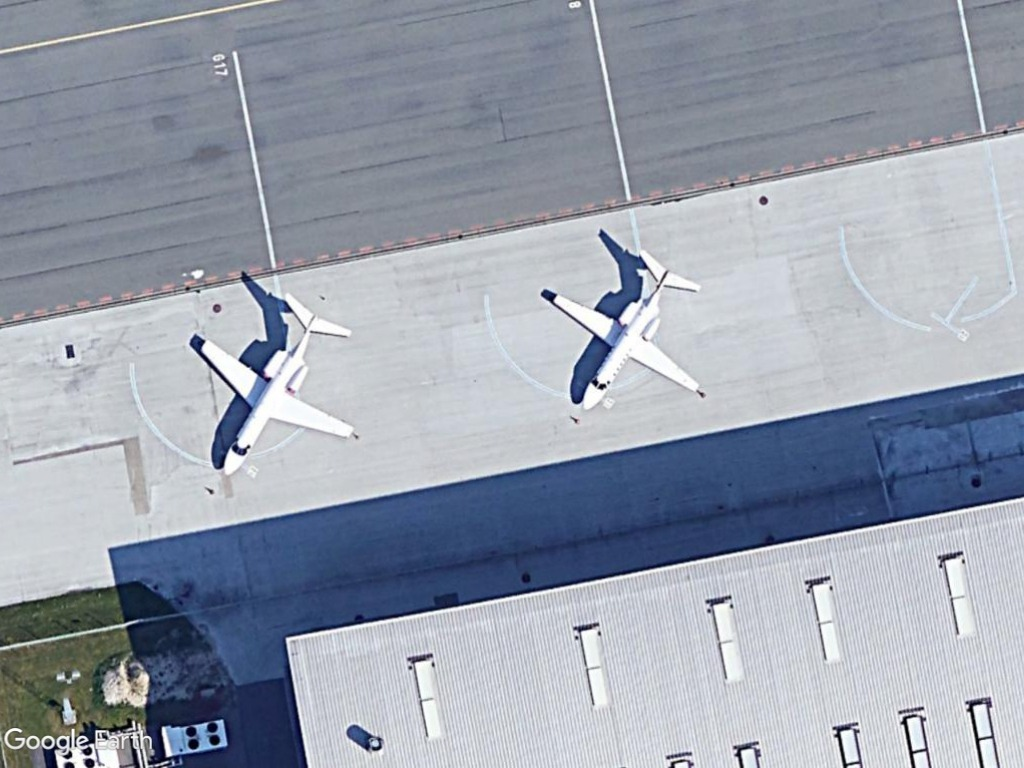chartered: (193, 288, 363, 481), (544, 251, 714, 414)
